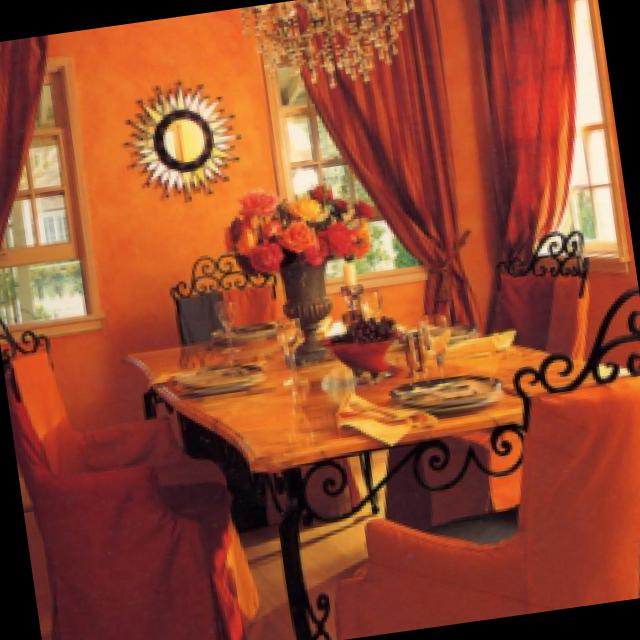2001: (260, 0, 442, 274), (0, 64, 89, 324), (533, 0, 614, 257)
bouquet: (219, 182, 375, 362)
bowl -X: (326, 315, 410, 372)
candle holder: (337, 264, 365, 307)
ceiling lamps: (239, 0, 403, 79)
chair: (482, 234, 587, 355), (169, 256, 285, 340)
chair -occluded-: (331, 286, 640, 634), (0, 322, 256, 640)
curtain crop: (304, 0, 479, 324), (476, 0, 576, 251), (0, 38, 43, 221)
mirror crop: (123, 82, 233, 193)
napkin ring: (334, 390, 433, 442), (439, 329, 511, 358)
plate food: (388, 373, 495, 410), (171, 363, 257, 393), (208, 322, 276, 345)
table -X: (118, 296, 640, 640)
